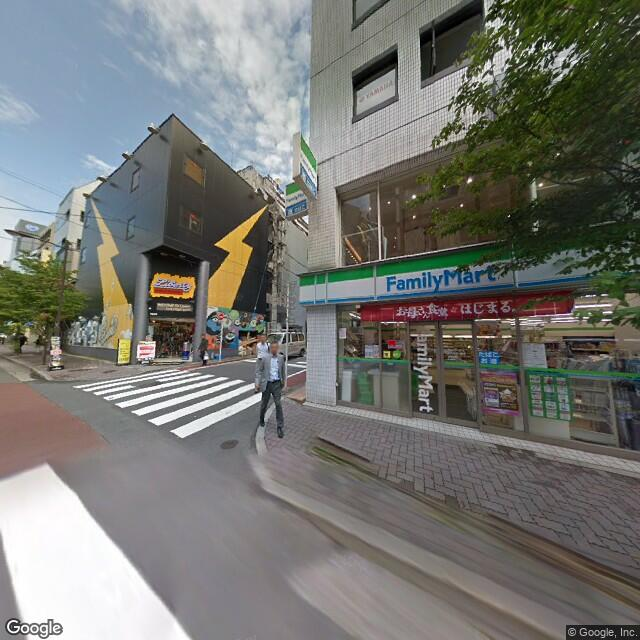family_mart: (297, 220, 638, 309), (412, 323, 433, 417), (299, 133, 320, 186), (283, 181, 308, 212)
